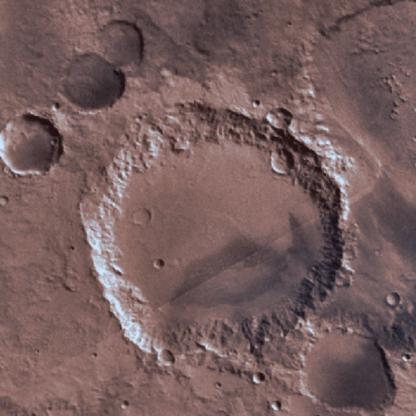craters: (55, 97, 362, 386), (271, 331, 415, 415), (42, 35, 127, 120), (0, 105, 75, 194), (93, 19, 163, 67), (254, 130, 298, 178), (250, 110, 298, 137), (126, 206, 174, 231), (375, 286, 412, 316), (147, 343, 183, 372), (145, 252, 177, 272), (242, 364, 271, 385), (242, 92, 269, 112)
